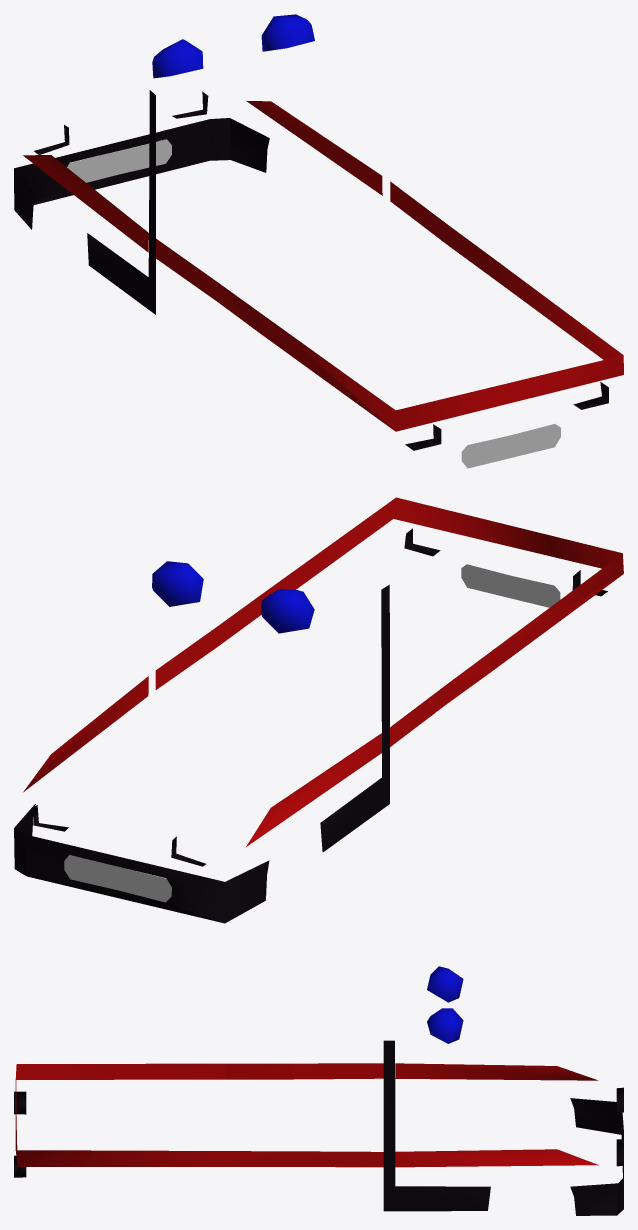
The model's file is ambulance0_misc_d5.obj.
The picture shows the model from 3 angles, top to bottom: view 1: azimuth 30°, elevation 25°; view 2: azimuth 150°, elevation 25°; view 3: azimuth 270°, elevation 25°; orthographic projection. The views are drawn at different scales.
Visible parts, largest first — view 1: Chassis_Red, Chassis_Black, Number_Plate, Siren; view 2: Chassis_Red, Chassis_Black, Number_Plate, Siren; view 3: Chassis_Red, Chassis_Black, Siren.
Boxes of the visible parts, x1=… form: Chassis_Red: x1=23, y1=100, x2=623, y2=431; Chassis_Black: x1=14, y1=90, x2=608, y2=450; Number_Plate: x1=67, y1=139, x2=560, y2=468; Siren: x1=152, y1=14, x2=314, y2=78; Chassis_Red: x1=23, y1=497, x2=623, y2=846; Chassis_Black: x1=14, y1=528, x2=607, y2=923; Number_Plate: x1=64, y1=564, x2=560, y2=902; Siren: x1=152, y1=561, x2=314, y2=633; Chassis_Red: x1=15, y1=1063, x2=598, y2=1167; Chassis_Black: x1=14, y1=1040, x2=623, y2=1215; Siren: x1=427, y1=966, x2=463, y2=1043.
Bounding box in the file's own units: 0.8552 × 0.8336 × 2.48.
